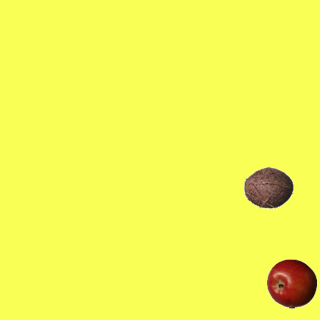Apple Braeburn: (266, 258, 316, 308)
Cocos: (243, 162, 293, 212)
